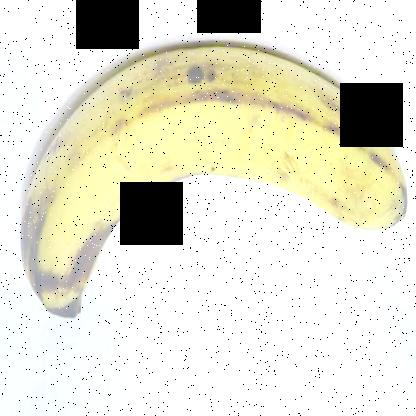ripe: (5, 31, 412, 334)
